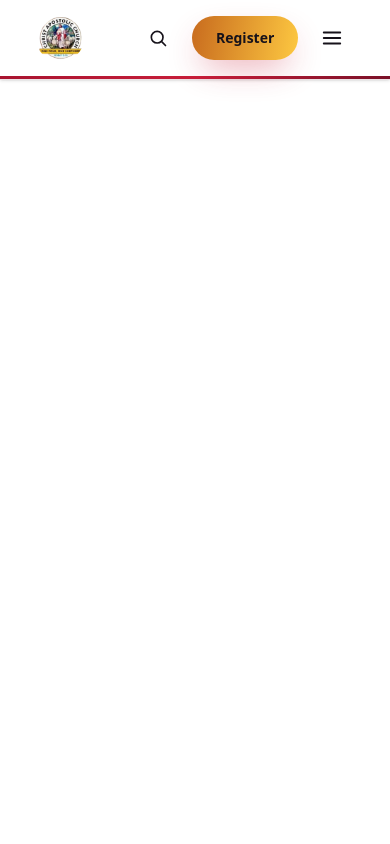
PrimaryNav › groups the mobile menu into Explore and Account & Giving sections
Click the button named "Open menu": coordinates (332, 38) [310,16,354,60]
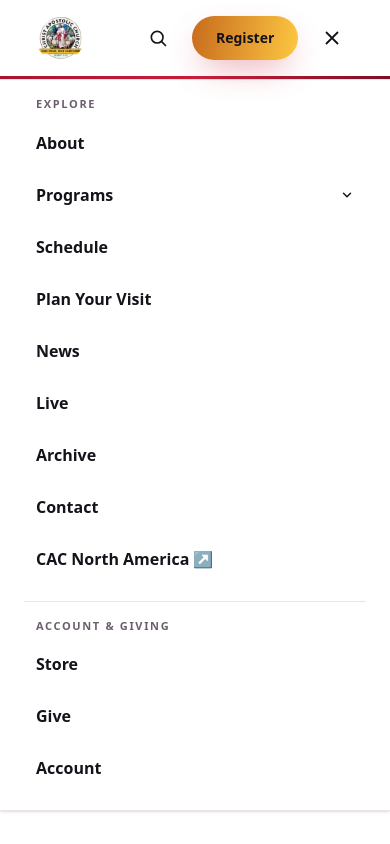
Check: the text "Explore" is shown, box [36,96,96,111]
Check: the text "Account & Giving" is shown, box [24,600,366,634]
